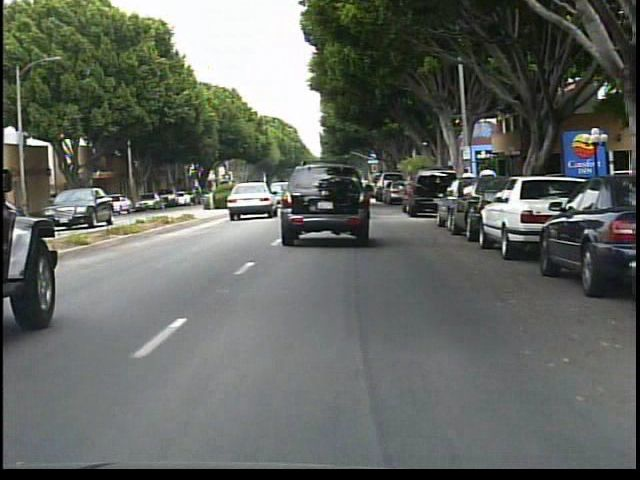person: (479, 163, 499, 208), (460, 166, 477, 207), (92, 189, 109, 218)
